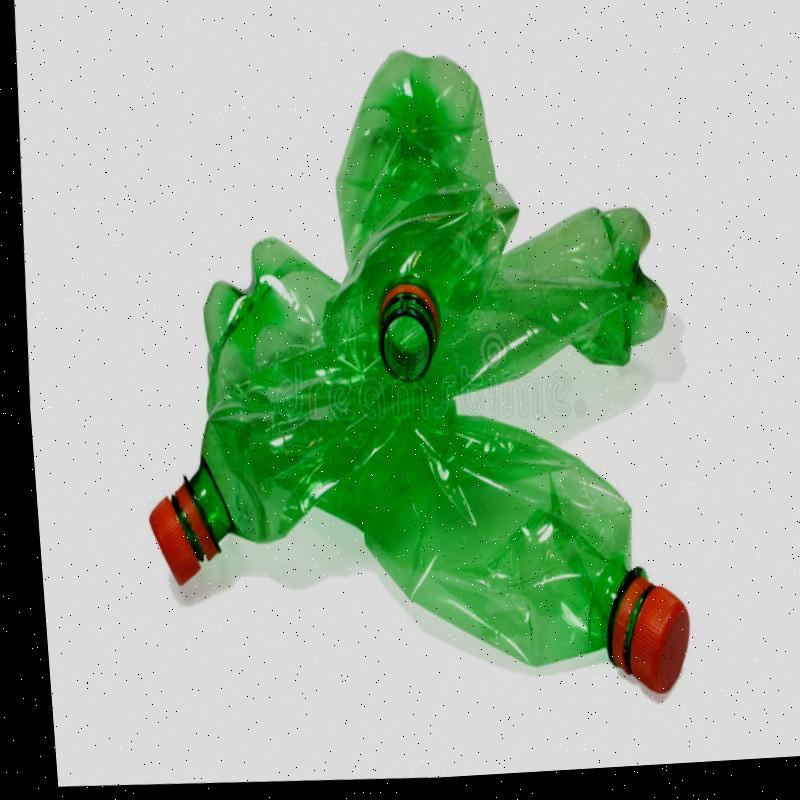plastic bottle: (147, 207, 668, 588), (310, 414, 690, 698), (320, 50, 520, 384), (201, 240, 340, 420)
